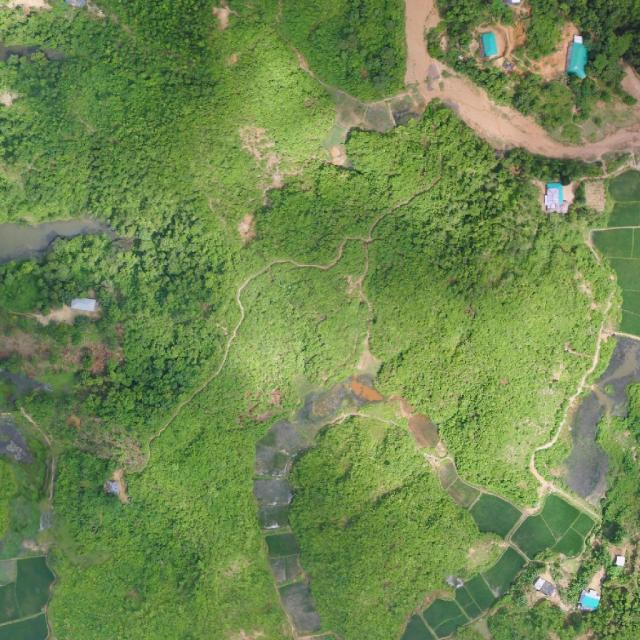agricultural_land: (549, 329, 640, 506), (508, 487, 601, 581), (464, 486, 523, 545), (10, 555, 60, 617), (477, 545, 532, 599), (430, 458, 483, 511), (419, 590, 470, 640), (404, 407, 446, 454), (463, 574, 498, 612), (450, 585, 484, 621), (0, 582, 22, 623)
building: (564, 41, 588, 78), (481, 32, 498, 57)
greenland: (504, 61, 584, 138), (454, 44, 526, 112), (566, 70, 605, 123)
